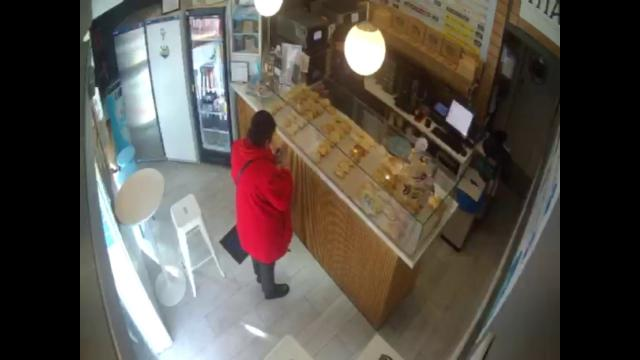cliente: (231, 110, 292, 300)
empleado: (317, 27, 365, 115)
